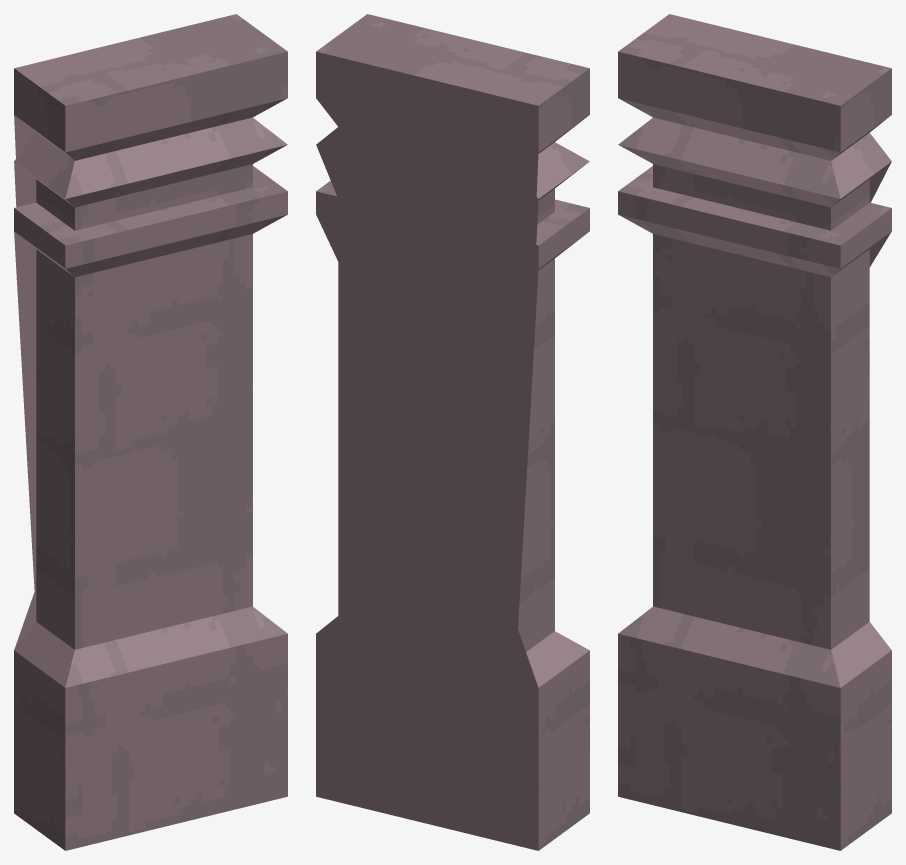
The model's file is wandpfeiler_gang_traeger_b.glb.
3 views of the same model, side by side, from view 1: azimuth 30°, elevation 25°; view 2: azimuth 150°, elevation 25°; view 3: azimuth 330°, elevation 25° (orthographic).
Visible parts, largest first — view 1: pfeiler_gang_traeger; view 2: pfeiler_gang_traeger; view 3: pfeiler_gang_traeger.
Part boxes in pixels (<box>): pfeiler_gang_traeger: <box>14,14,287,850</box>; pfeiler_gang_traeger: <box>316,14,589,850</box>; pfeiler_gang_traeger: <box>618,14,891,850</box>.
Bounding box in the file's own units: 0.625 × 2 × 0.25.
1 material, 1 textured.
